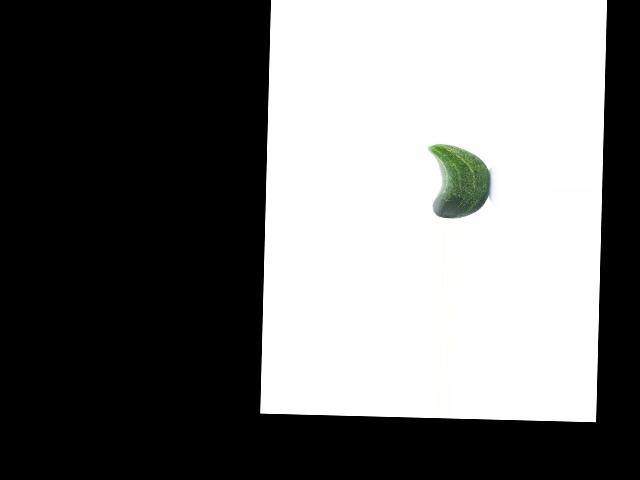cucumber: (426, 143, 490, 219)
